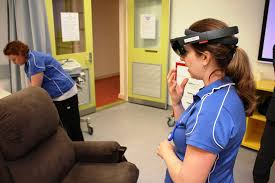hololens: (170, 25, 240, 59)
